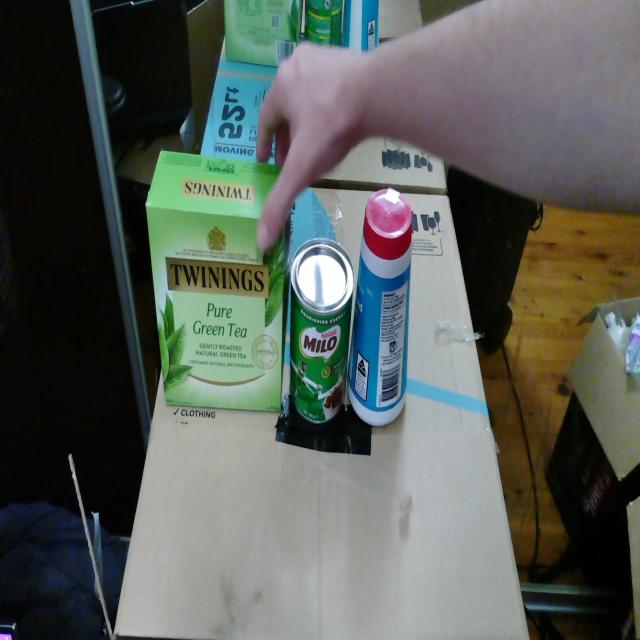nestle_milo_tin: (290, 237, 355, 423)
twinings_greentea_box: (146, 151, 291, 412)
woolworths_salt_bottle: (347, 188, 412, 426)
